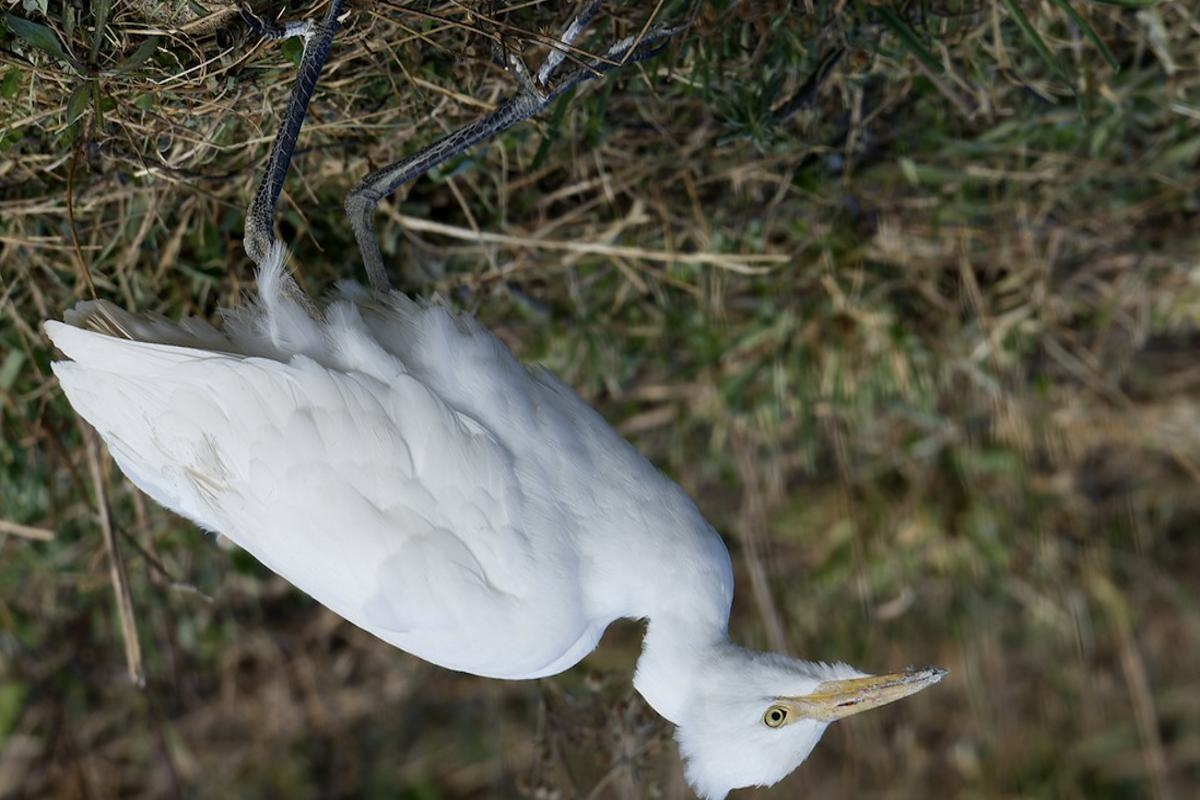egret: (60, 108, 951, 788)
